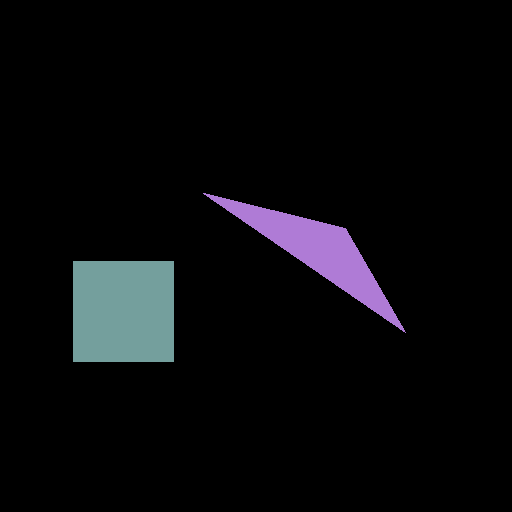square: (73, 261, 173, 361)
triangle: (203, 193, 405, 332)
